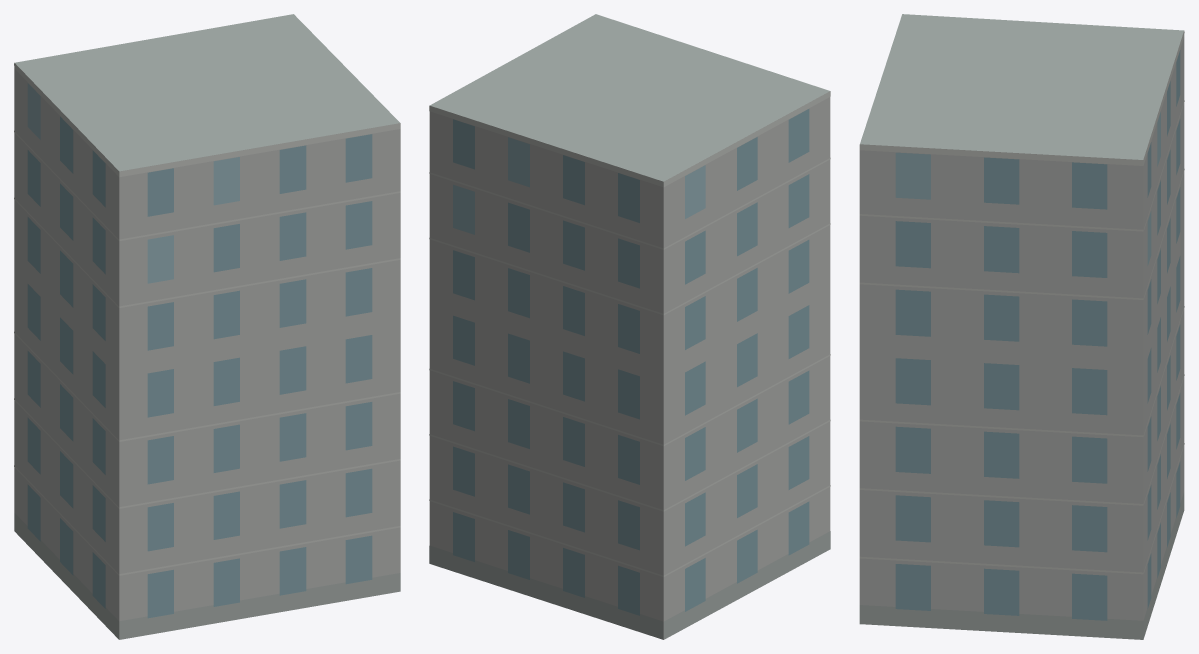
Rendered from survey-upis-32942297.glb.
The picture shows the model from 3 angles, left to right: view 1: azimuth 30°, elevation 25°; view 2: azimuth 150°, elevation 25°; view 3: azimuth 270°, elevation 25°; orthographic projection. The views are drawn at different scales.
Visible parts, largest first — view 1: survey-upis-32942297.tmp; view 2: survey-upis-32942297.tmp; view 3: survey-upis-32942297.tmp.
Part boxes in pixels (left/top/right/bottom): survey-upis-32942297.tmp: left=14, top=14, right=400, bottom=639; survey-upis-32942297.tmp: left=429, top=14, right=830, bottom=639; survey-upis-32942297.tmp: left=859, top=14, right=1184, bottom=639.
Bounding box in the file's own units: 12.83 × 19.62 × 12.05.
